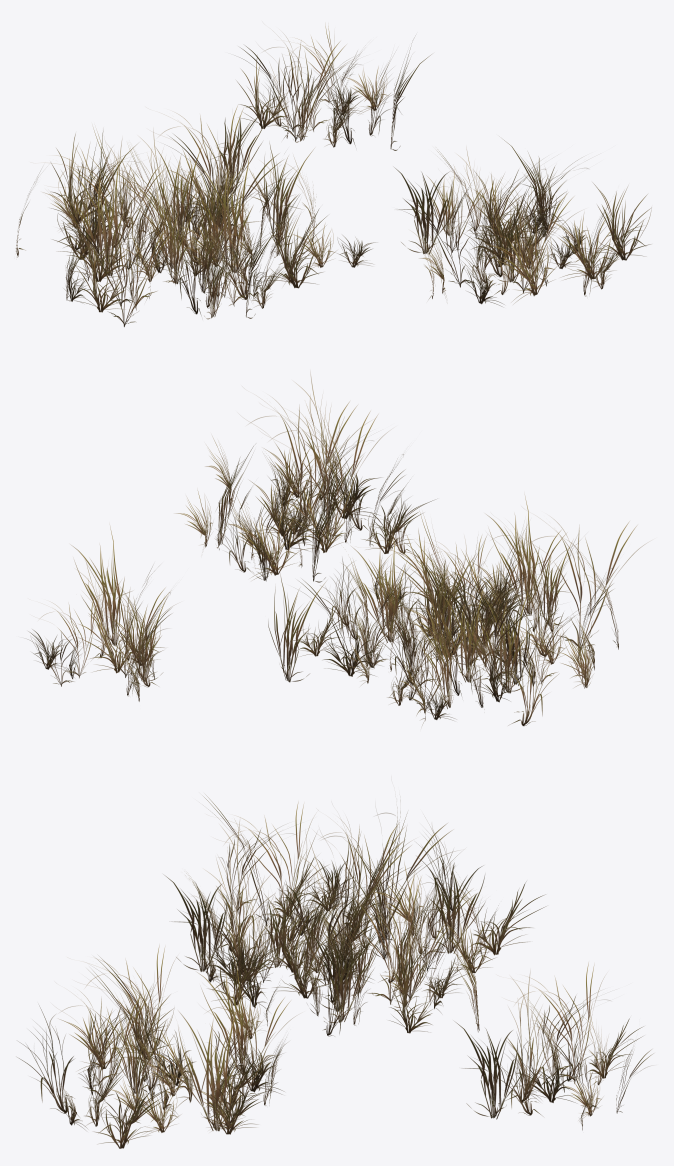
3 renders of one model, top to bottom at view 1: azimuth 30°, elevation 25°; view 2: azimuth 150°, elevation 25°; view 3: azimuth 270°, elevation 25°, orthographic. The views are drawn at different scales.
Parts seen in each view (by area): view 1: grasspatch3, grasspatch1, grasspatch2; view 2: grasspatch3, grasspatch1, grasspatch2; view 3: grasspatch3, grasspatch1, grasspatch2.
Boxes of the visible parts, bbox=[...] form: grasspatch3: bbox=[16, 106, 375, 326]; grasspatch1: bbox=[394, 140, 651, 306]; grasspatch2: bbox=[237, 26, 431, 150]; grasspatch3: bbox=[268, 496, 646, 726]; grasspatch1: bbox=[176, 373, 433, 582]; grasspatch2: bbox=[30, 526, 172, 701]; grasspatch3: bbox=[166, 796, 545, 1039]; grasspatch1: bbox=[17, 945, 295, 1148]; grasspatch2: bbox=[456, 963, 652, 1130].
Size of the model in its own units: 507 by 129 by 524.
1 material, 1 textured.
